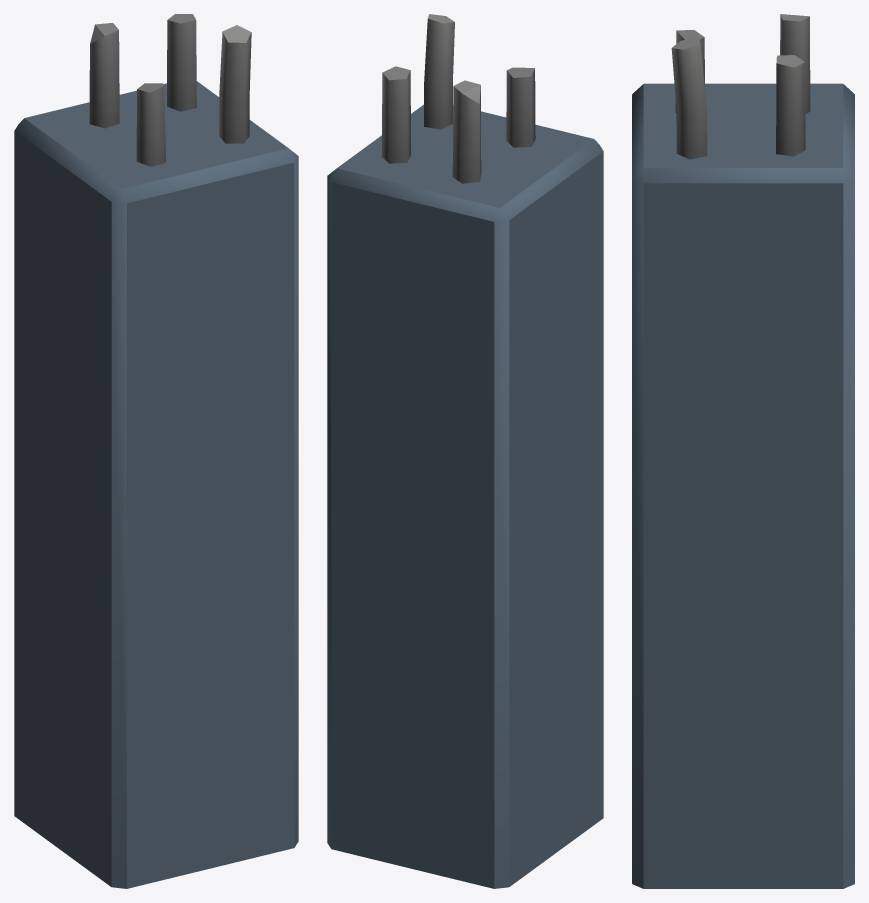
File: Pilar_C_2.fbx
The picture shows the model from 3 angles, left to right: view 1: azimuth 30°, elevation 25°; view 2: azimuth 150°, elevation 25°; view 3: azimuth 270°, elevation 25°; orthographic projection. The views are drawn at different scales.
Parts seen in each view (by area): view 1: Pilar_C_2; view 2: Pilar_C_2; view 3: Pilar_C_2.
Part boxes in pixels (x1,y1,x2,y2): Pilar_C_2: (14, 14, 298, 888); Pilar_C_2: (327, 14, 603, 888); Pilar_C_2: (632, 14, 854, 888).
Bounding box in the file's own units: 54.96 × 226 × 55.1.
